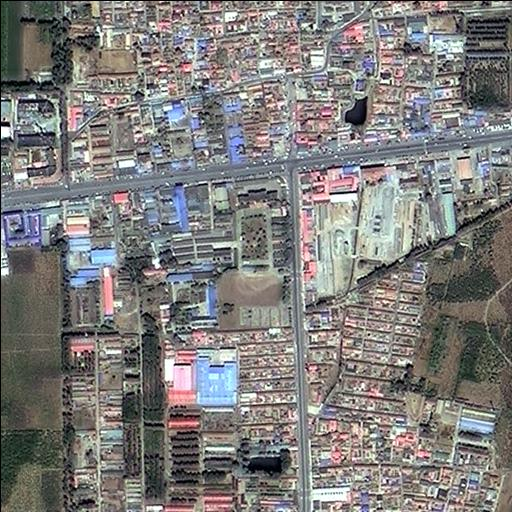school: (208, 175, 296, 333)
